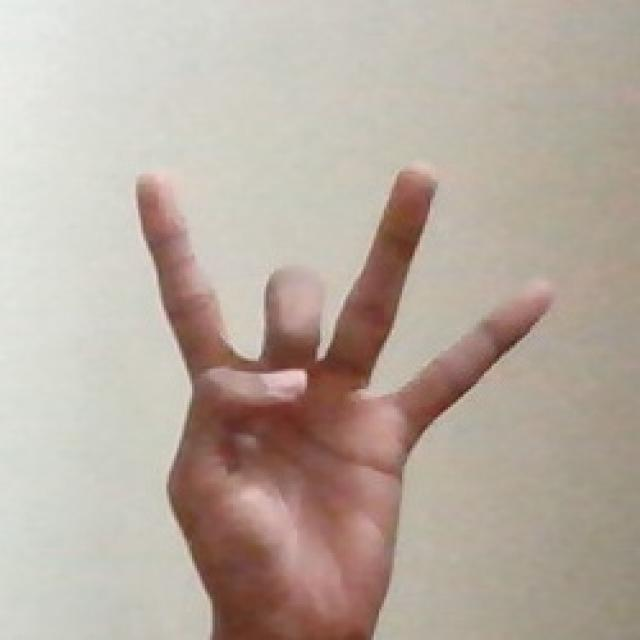Numeric-8: (132, 154, 553, 608)
